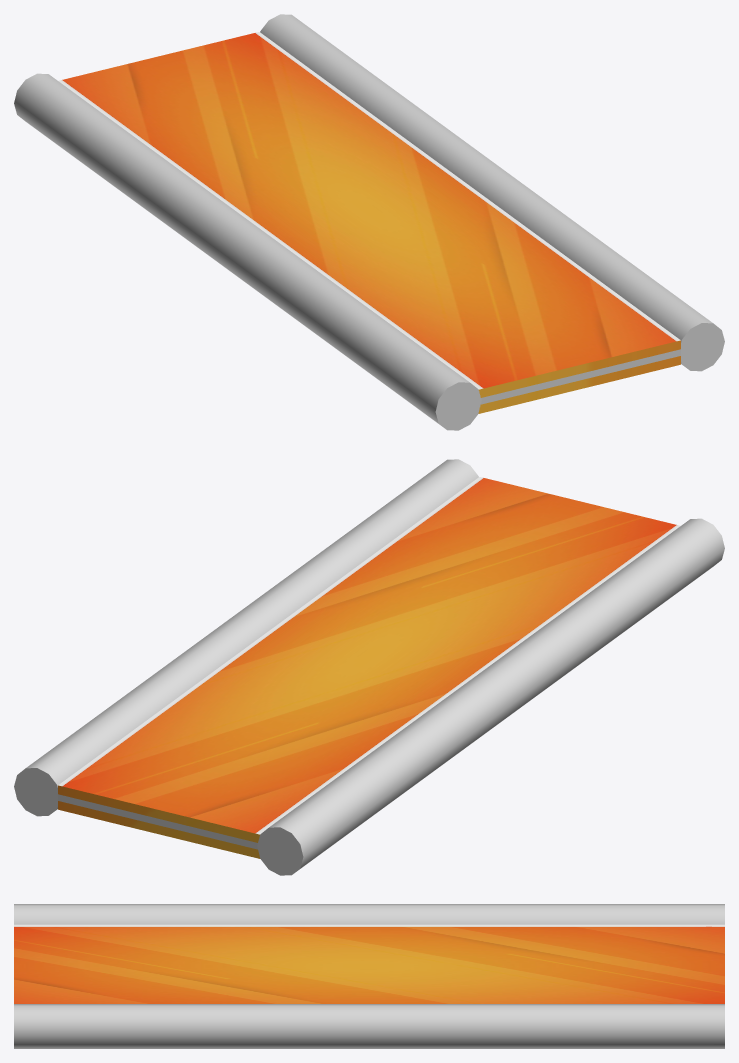
Rendered from PLF0110199.fbx.
The picture shows the model from 3 angles, top to bottom: view 1: azimuth 30°, elevation 25°; view 2: azimuth 150°, elevation 25°; view 3: azimuth 270°, elevation 25°; orthographic projection. The views are drawn at different scales.
Parts seen in each view (by area): view 1: smPLF0110199; view 2: smPLF0110199; view 3: smPLF0110199.
Part boxes in pixels (left/top/right/bottom): smPLF0110199: left=14, top=14, right=724, bottom=430; smPLF0110199: left=14, top=459, right=724, bottom=875; smPLF0110199: left=14, top=904, right=724, bottom=1048.
Size of the model in its own units: 183 by 29.18 by 461.
